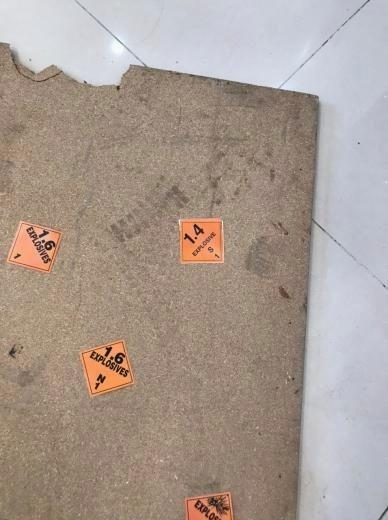explosive: (81, 339, 133, 396), (6, 221, 61, 272), (179, 218, 225, 264), (183, 493, 234, 520)
